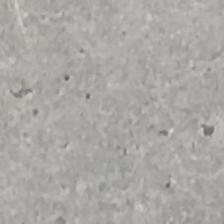Non_Crack: (18, 1, 224, 224)
